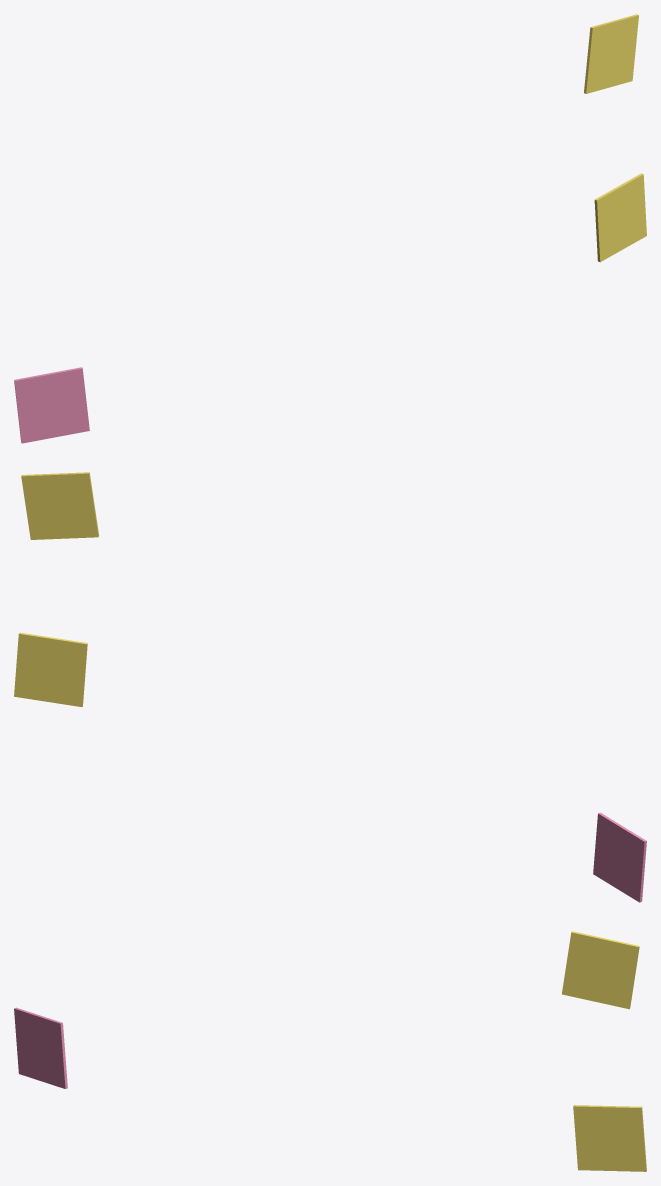
Rendered from StickyNotes.fbx.
The picture shows the model from 3 angles, top to bottom: view 1: azimuth 30°, elevation 25°; view 2: azimuth 150°, elevation 25°; view 3: azimuth 330°, elevation 25°; orthographic projection.
Parts seen in each view (by area): view 1: StickyNotesBody; view 2: StickyNotesBody; view 3: StickyNotesBody.
Part boxes in pixels (bbox=[...]): StickyNotesBody: bbox=[14, 14, 646, 443]; StickyNotesBody: bbox=[14, 472, 646, 902]; StickyNotesBody: bbox=[14, 931, 646, 1171].
Bounding box in the file's own units: 0.6779 × 0.2924 × 0.0255.
